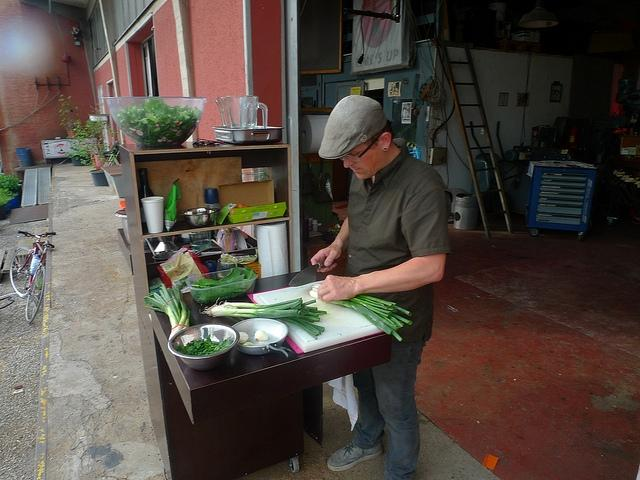green onion: (309, 290, 393, 334), (200, 297, 310, 320), (312, 287, 391, 318), (314, 284, 394, 306), (154, 292, 178, 332), (168, 301, 188, 341), (166, 287, 182, 318), (352, 298, 388, 310), (364, 304, 392, 314), (392, 330, 402, 342)
